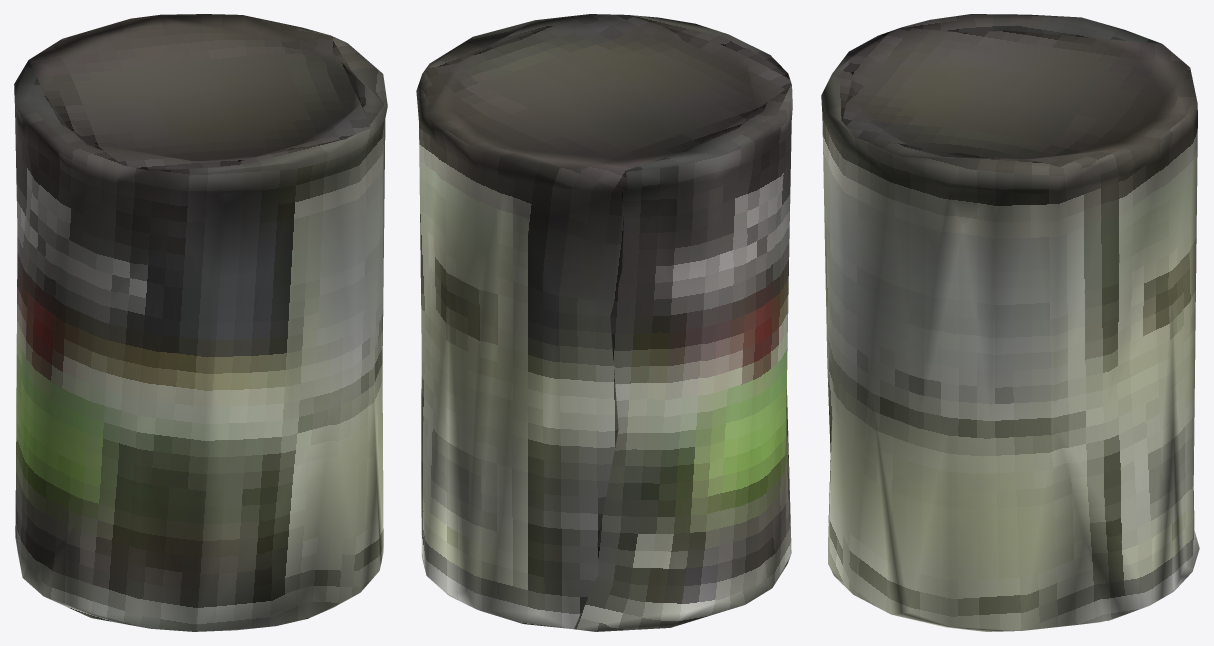
Rendered from Don_Franciscos_Gourmet_Coffee_Medium_Decaf_100_Colombian_12_oz_340_g-low.glb.
3 views of the same model, side by side, from view 1: azimuth 30°, elevation 25°; view 2: azimuth 150°, elevation 25°; view 3: azimuth 270°, elevation 25° (orthographic).
Visible parts, largest first — view 1: Don_Franciscos_Gourmet_Coffee_Medium_Decaf_100_Colombian_12_; view 2: Don_Franciscos_Gourmet_Coffee_Medium_Decaf_100_Colombian_12_; view 3: Don_Franciscos_Gourmet_Coffee_Medium_Decaf_100_Colombian_12_.
Boxes of the visible parts, <box> form: Don_Franciscos_Gourmet_Coffee_Medium_Decaf_100_Colombian_12_: <box>14,14,387,631</box>; Don_Franciscos_Gourmet_Coffee_Medium_Decaf_100_Colombian_12_: <box>416,14,792,631</box>; Don_Franciscos_Gourmet_Coffee_Medium_Decaf_100_Colombian_12_: <box>821,14,1199,631</box>.
Bounding box in the file's own units: 0.1023 × 0.1405 × 0.103.
1 material, 1 textured.
